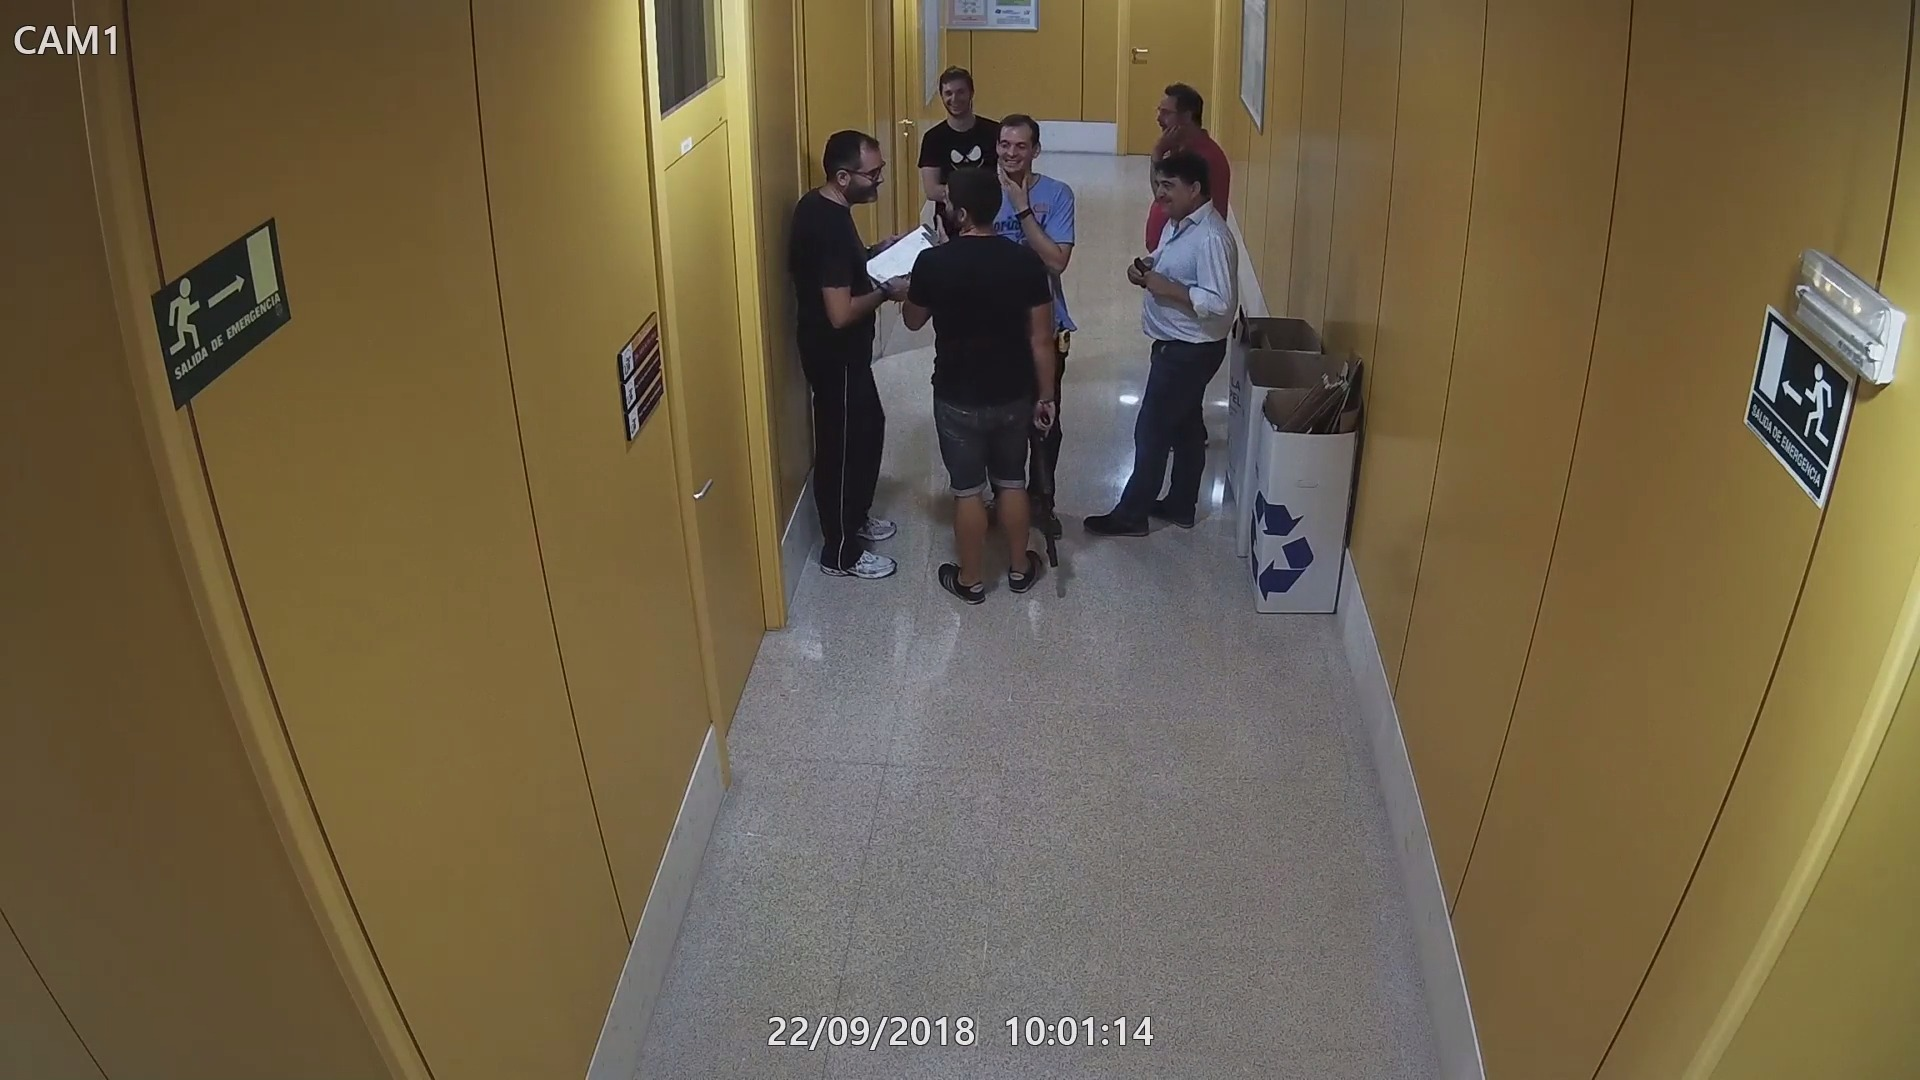Handgun: (1125, 255, 1162, 291)
Short_rifle: (1030, 407, 1067, 575)
